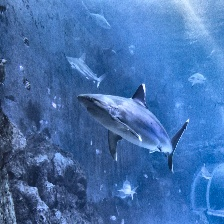shark: (78, 84, 189, 174)
